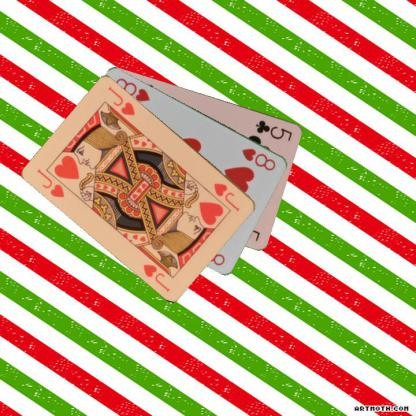5c: (253, 118, 294, 144)
8h: (240, 145, 277, 172)
Jh: (34, 166, 66, 199), (211, 180, 241, 213)
